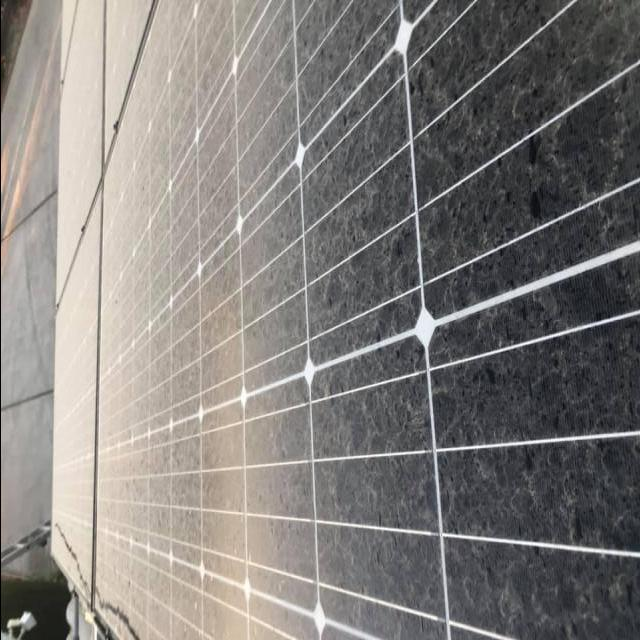soiled: (92, 0, 636, 639)
